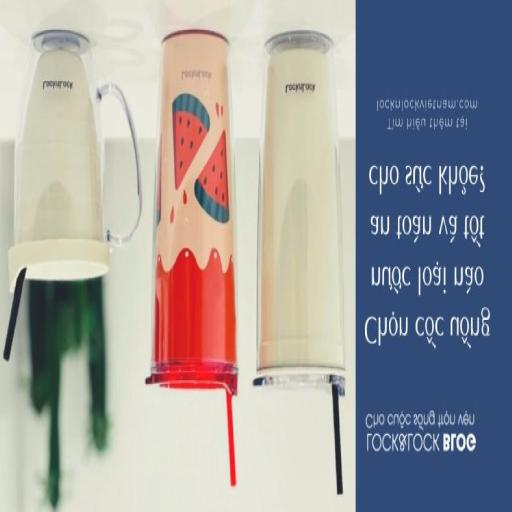cup: (146, 33, 237, 483), (255, 35, 344, 394), (9, 34, 108, 291)
